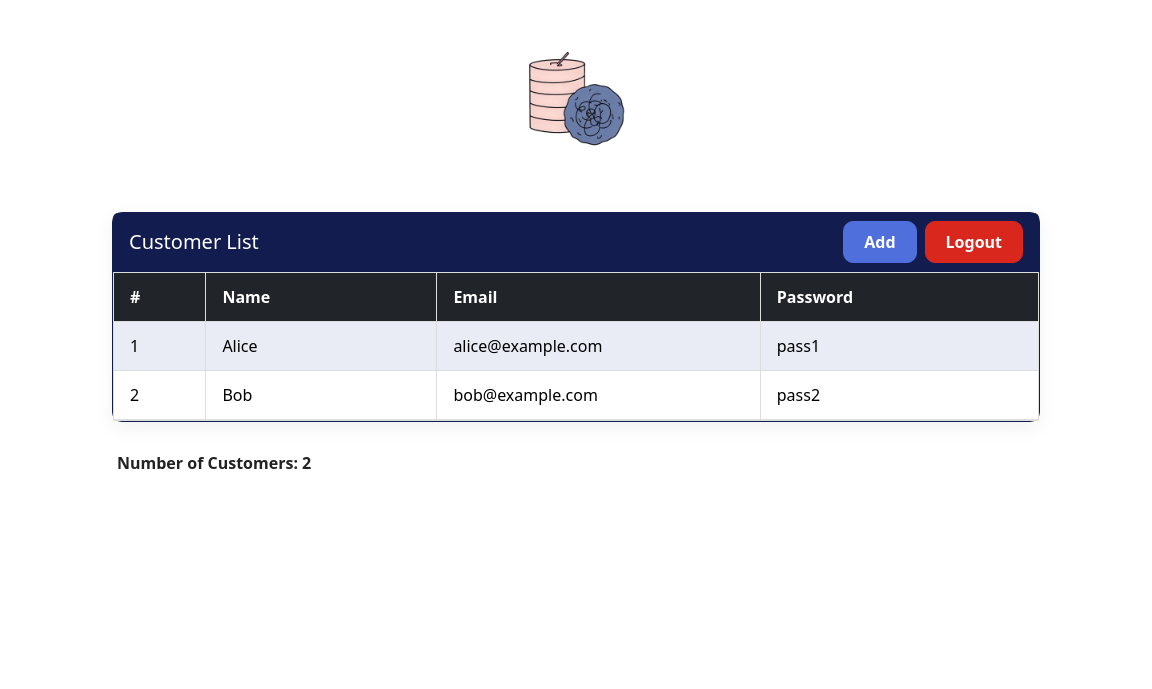
Test: Changes in the style when a customer is selected › Update form appears and populates correctly › shows update form with correct data when a customer row is clicked
Click the text "Alice". click: (240, 346)
box: [222,335,258,357]
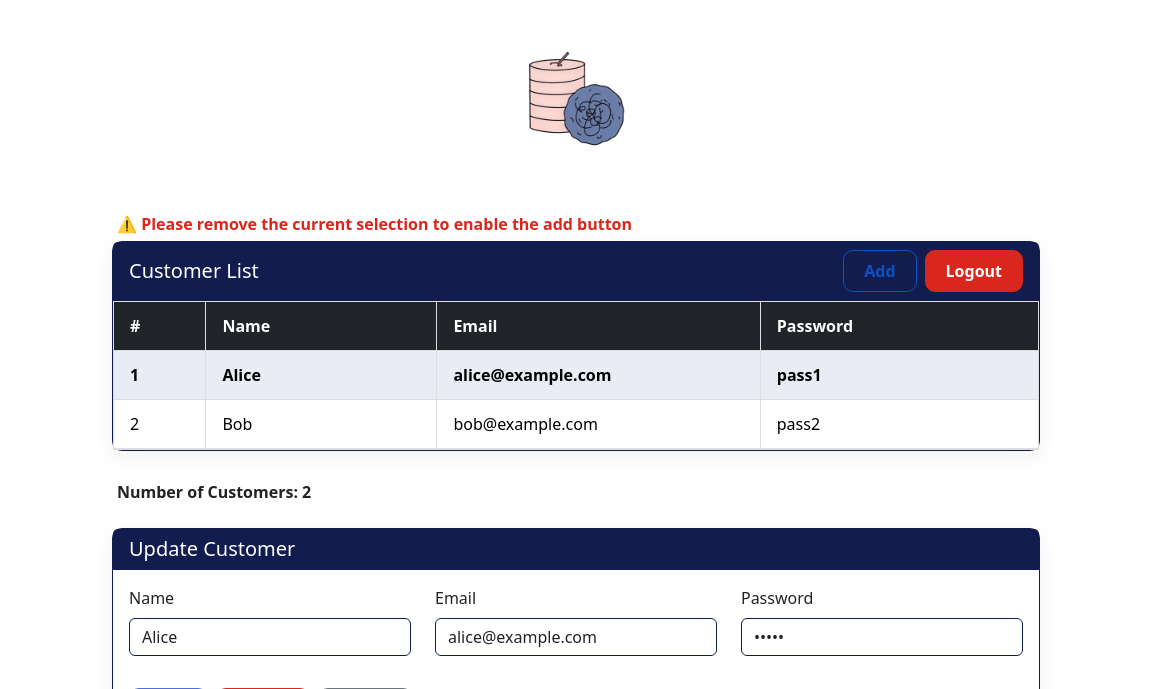
Expected: the heading "Update Customer" is shown, [129,535,295,562]
